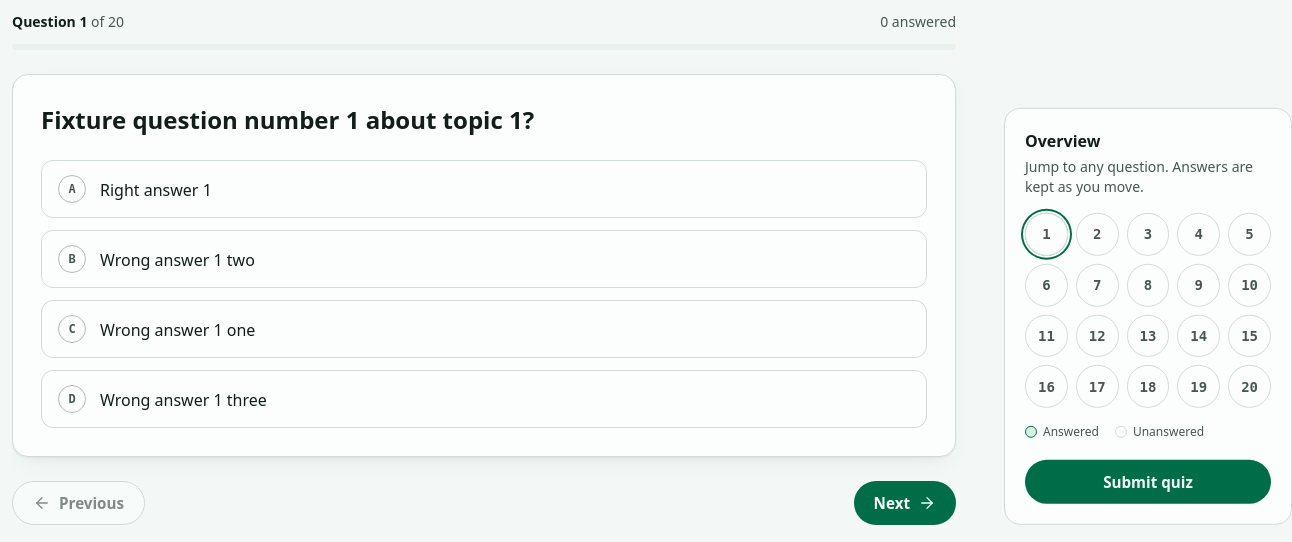
Test: QuizRunner › keeps answers when moving between questions
Click the radio button labelled "Wrong answer 1 two" at (177,260), box [41,230,927,288]
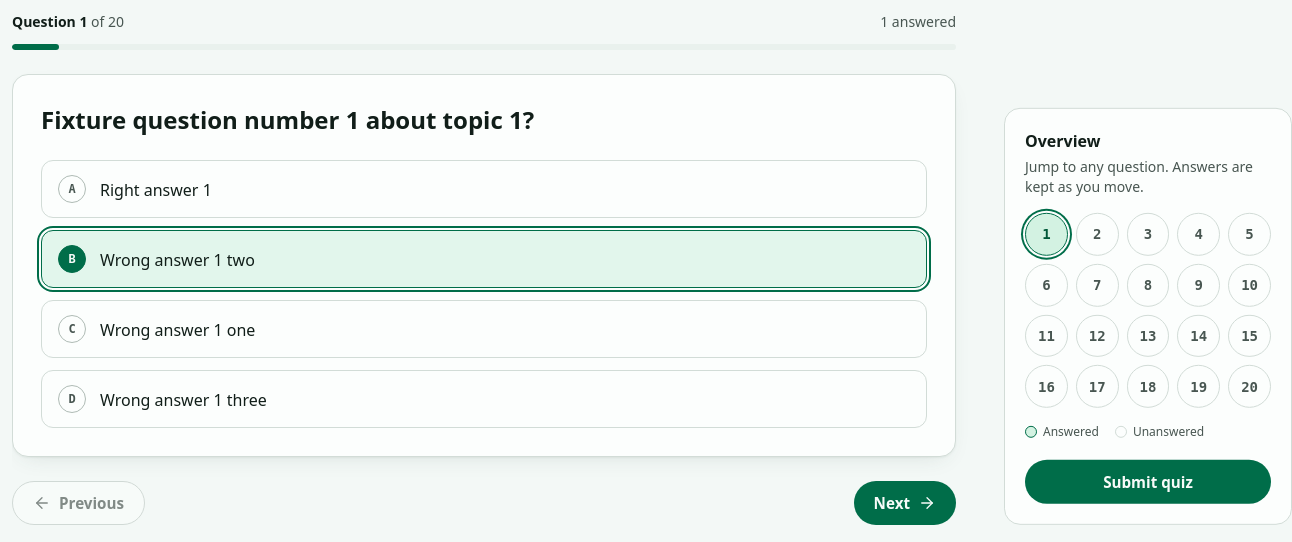
Click the button "Next" at (905,503), box [854,481,956,525]
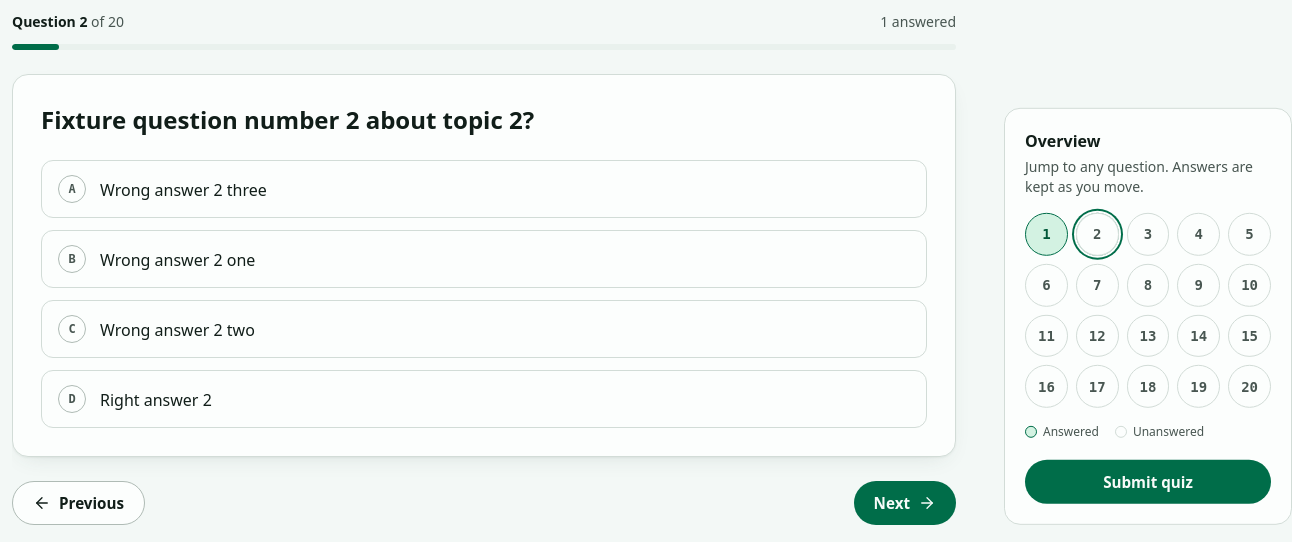
Click the radio button labelled "Right answer 2" at (156,400), box [41,370,927,428]
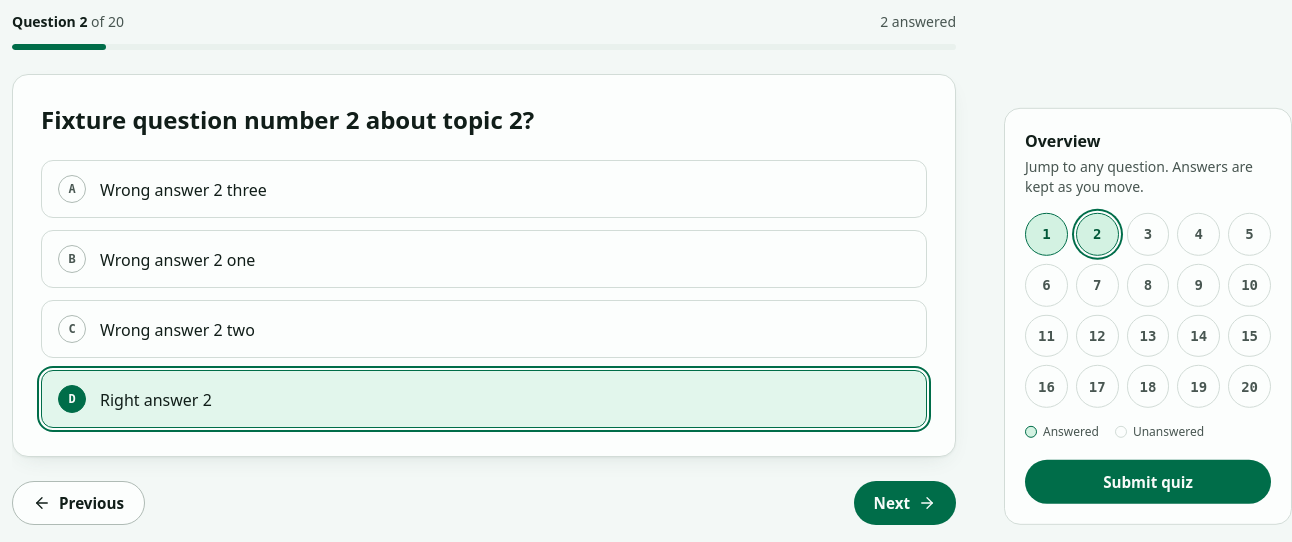
Click the button "Previous" at (78,503), box [12,481,145,525]
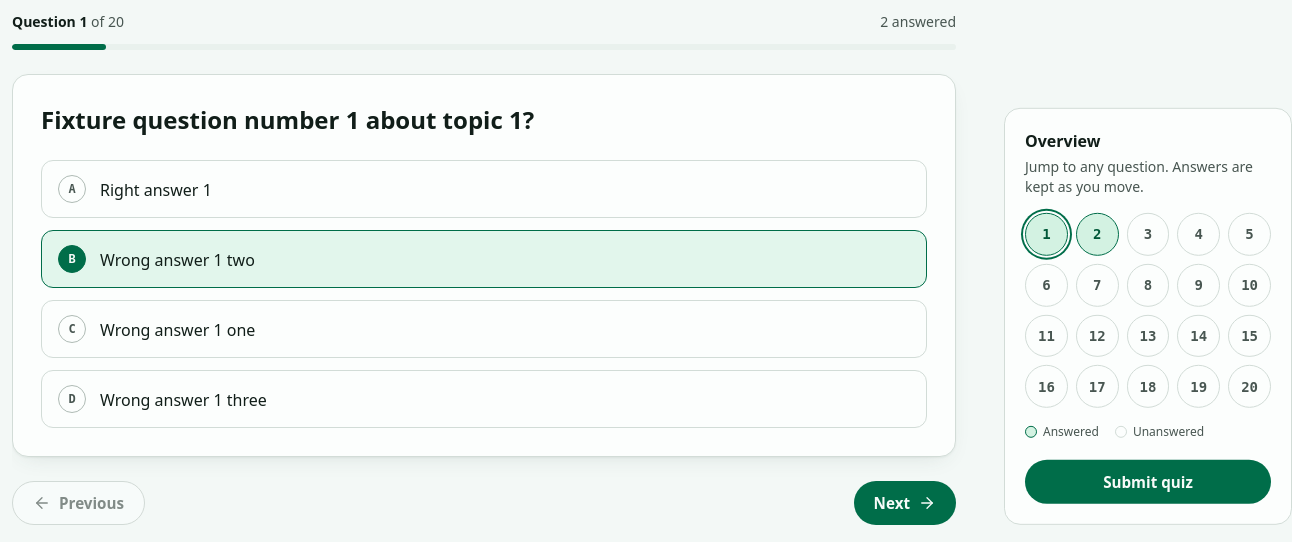
Expected: the text "2 answered" is shown, [880,12,956,32]
Expected: the radio button labelled "Wrong answer 1 two" is checked, [41,230,927,288]
